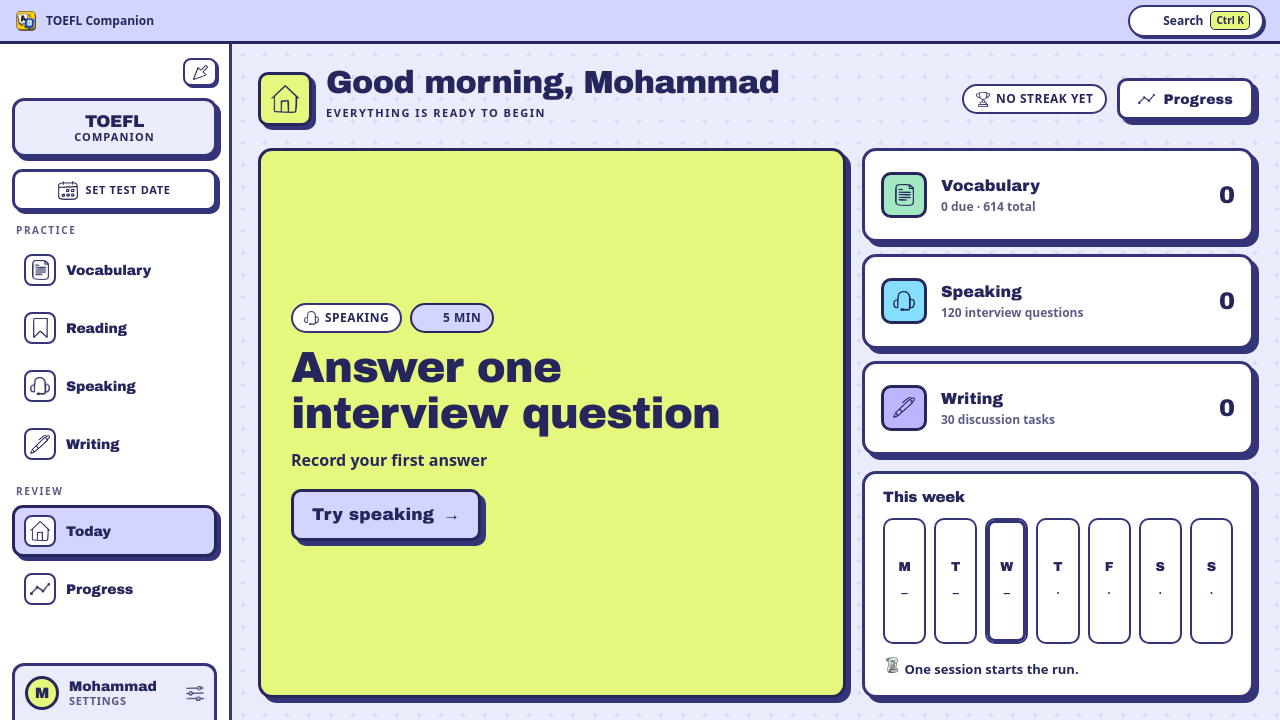
unified application navigation › navigates between the main desktop study areas
The width and height of the screenshot is (1280, 720).
Click the button "Speaking": (114, 386) [12, 360, 217, 412]
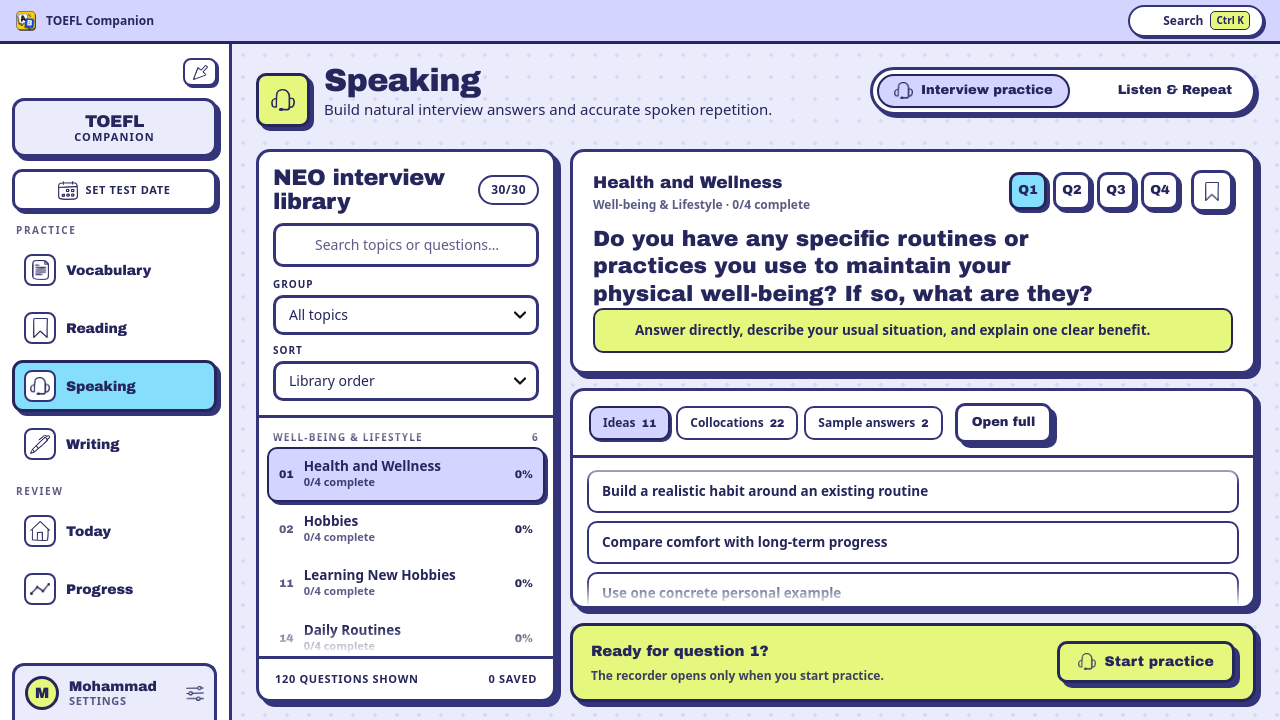
expect the heading "Speaking" is shown: met, box [324, 63, 481, 98]
Click the button "Writing": (114, 444) [12, 418, 217, 470]
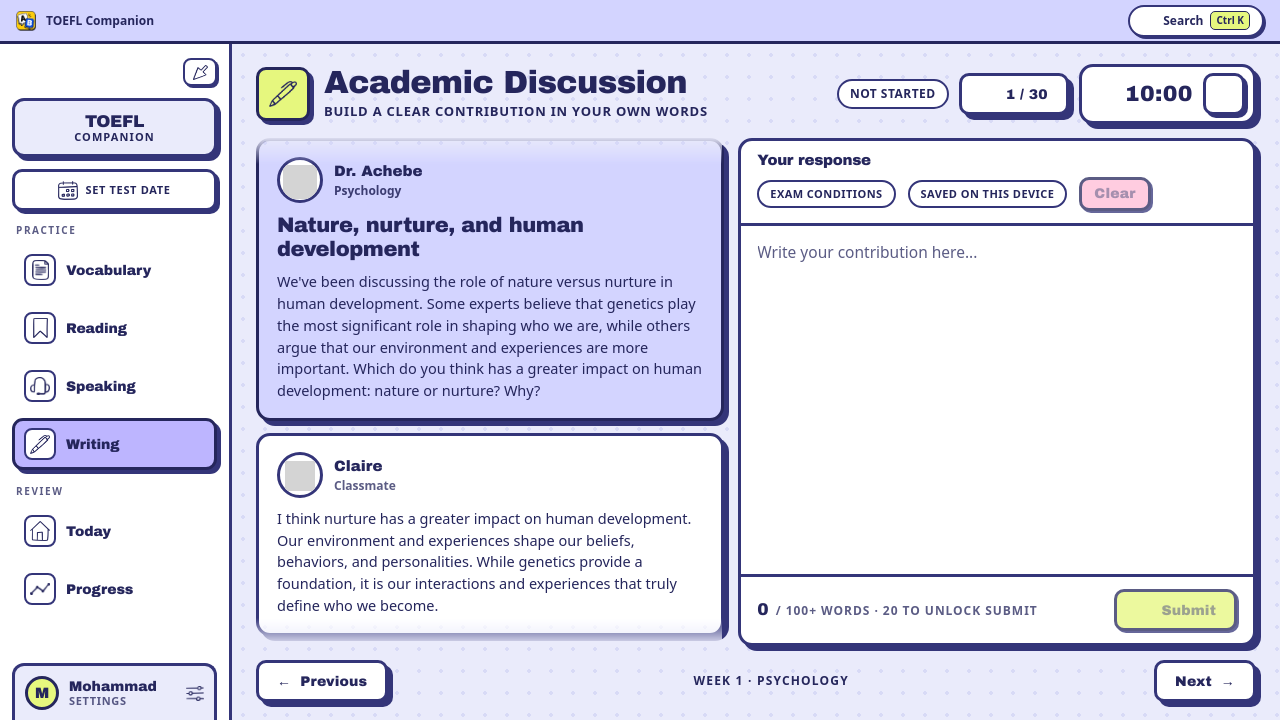
expect the heading "Academic Discussion" is shown: met, box [324, 66, 708, 100]
